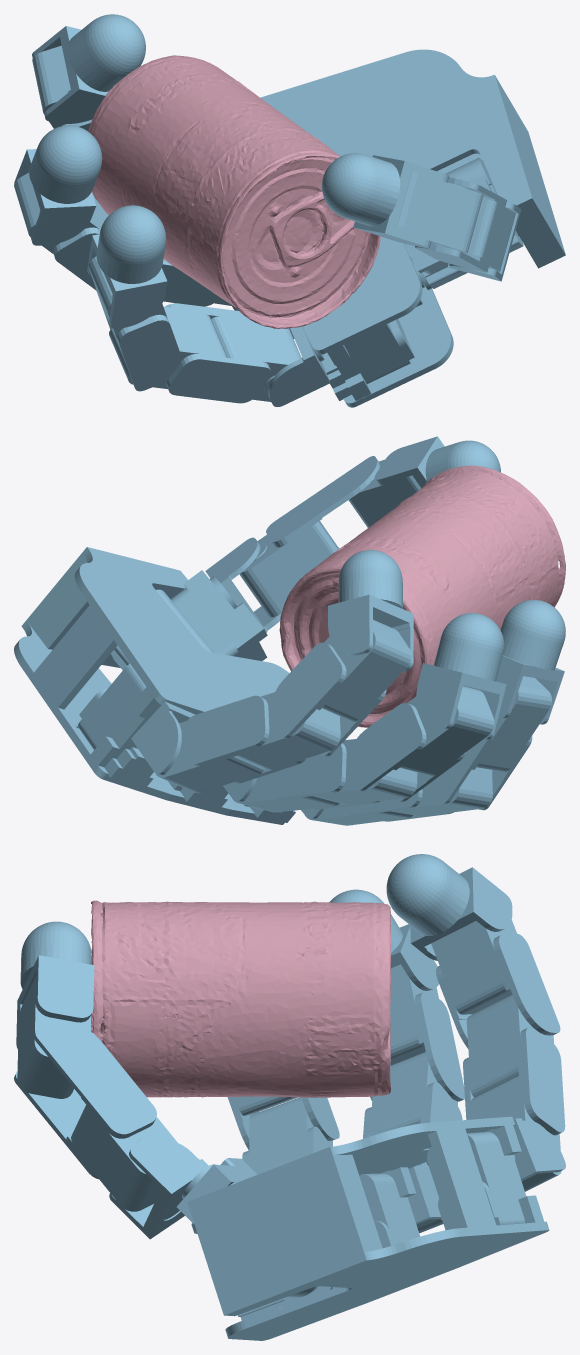
File: Allegro_ycb+tomato_soup_can_mesh.glb
3 views of the same model, one above another, from view 1: azimuth 30°, elevation 25°; view 2: azimuth 150°, elevation 25°; view 3: azimuth 270°, elevation 25° (orthographic). The views are drawn at different scales.
Visible parts, largest first — view 1: world; view 2: world; view 3: world.
Boxes of the visible parts, box(x1,y1,x2,y2) form: world: box(14, 14, 565, 407); world: box(14, 436, 565, 825); world: box(14, 854, 565, 1340).
Size of the model in its own units: 0.2055 by 0.1489 by 0.1872.
